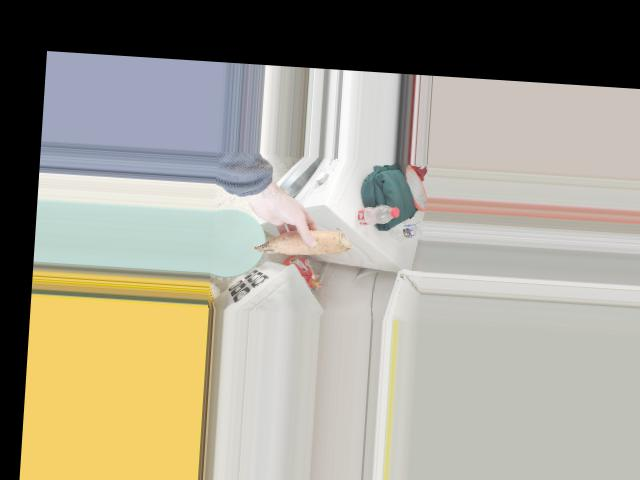sweet_potato: (251, 219, 355, 260)
